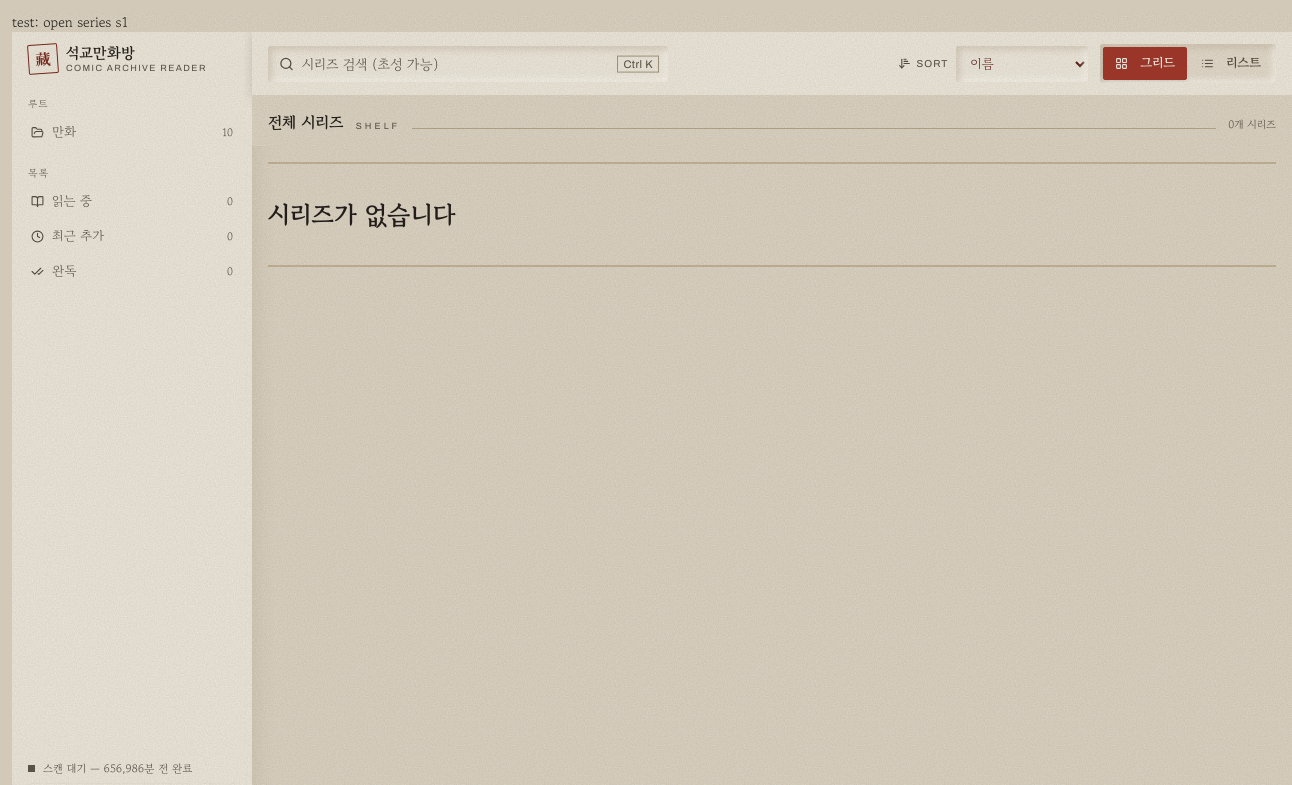
Scenario: library preferences changed off the library screen (A-5 write-back) › writes back a sort changed on a series screen, and keeps it on the way back to the library
Click the link "test: open series s1": {"x": 70, "y": 22} [12, 12, 128, 32]
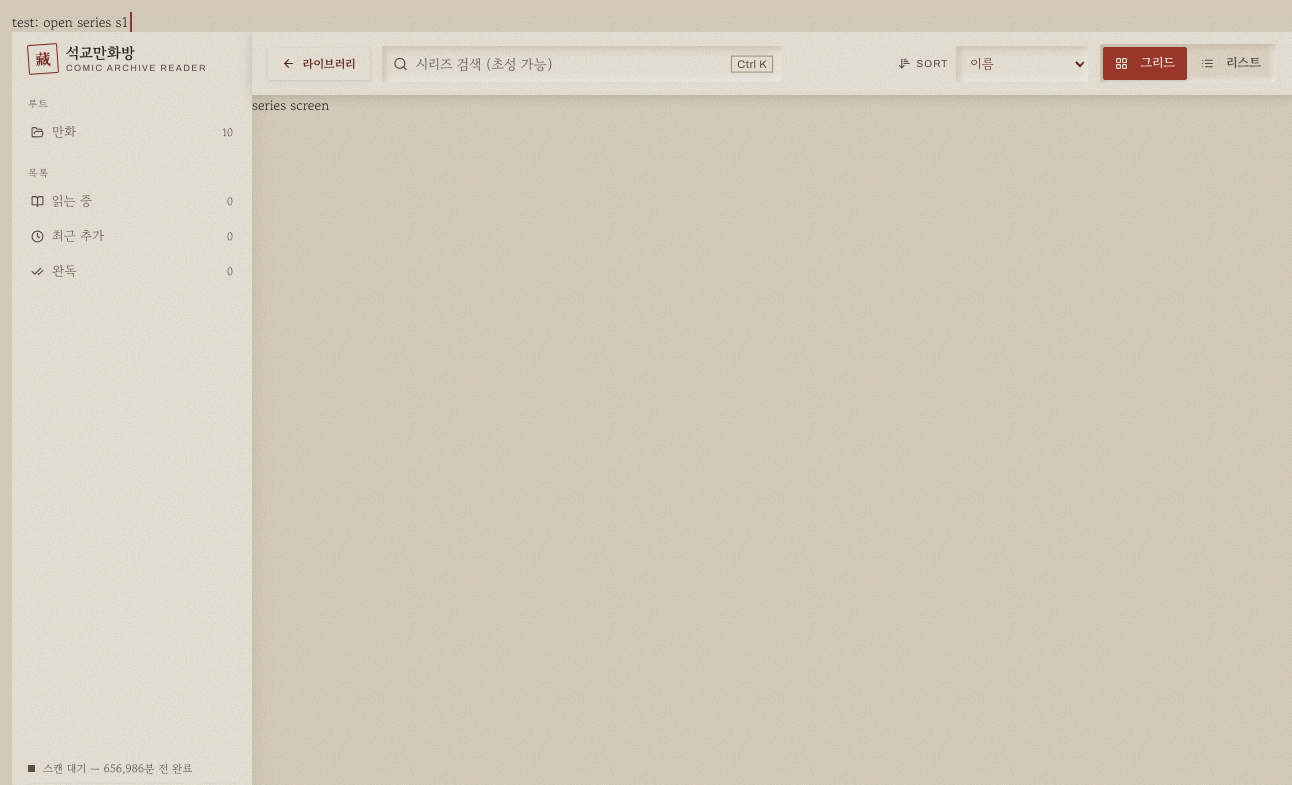
expect the text "series screen" is shown: met, box [252, 95, 329, 115]
Select "수정일" in the dropdown named "정렬": {"x": 1022, "y": 64} [956, 46, 1088, 82]
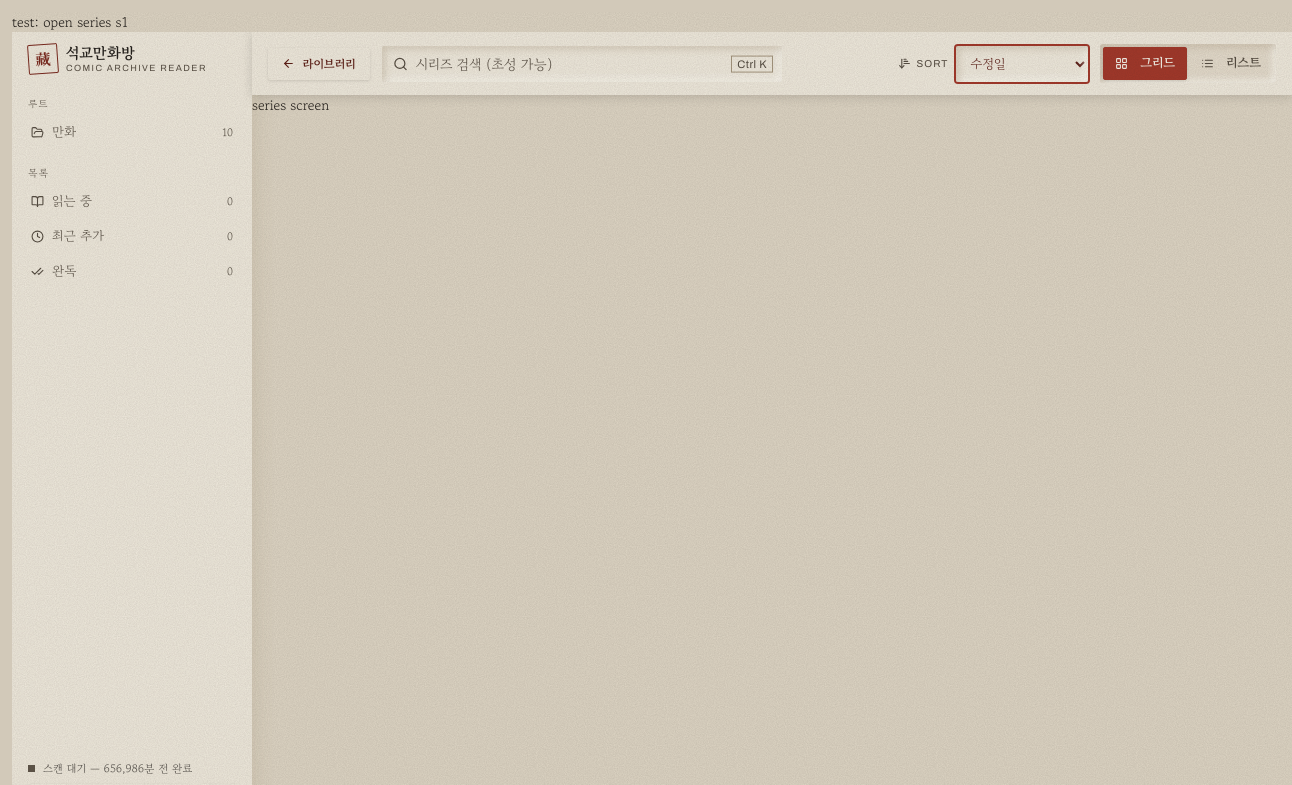
Click the button "라이브러리": {"x": 319, "y": 64} [268, 48, 370, 80]
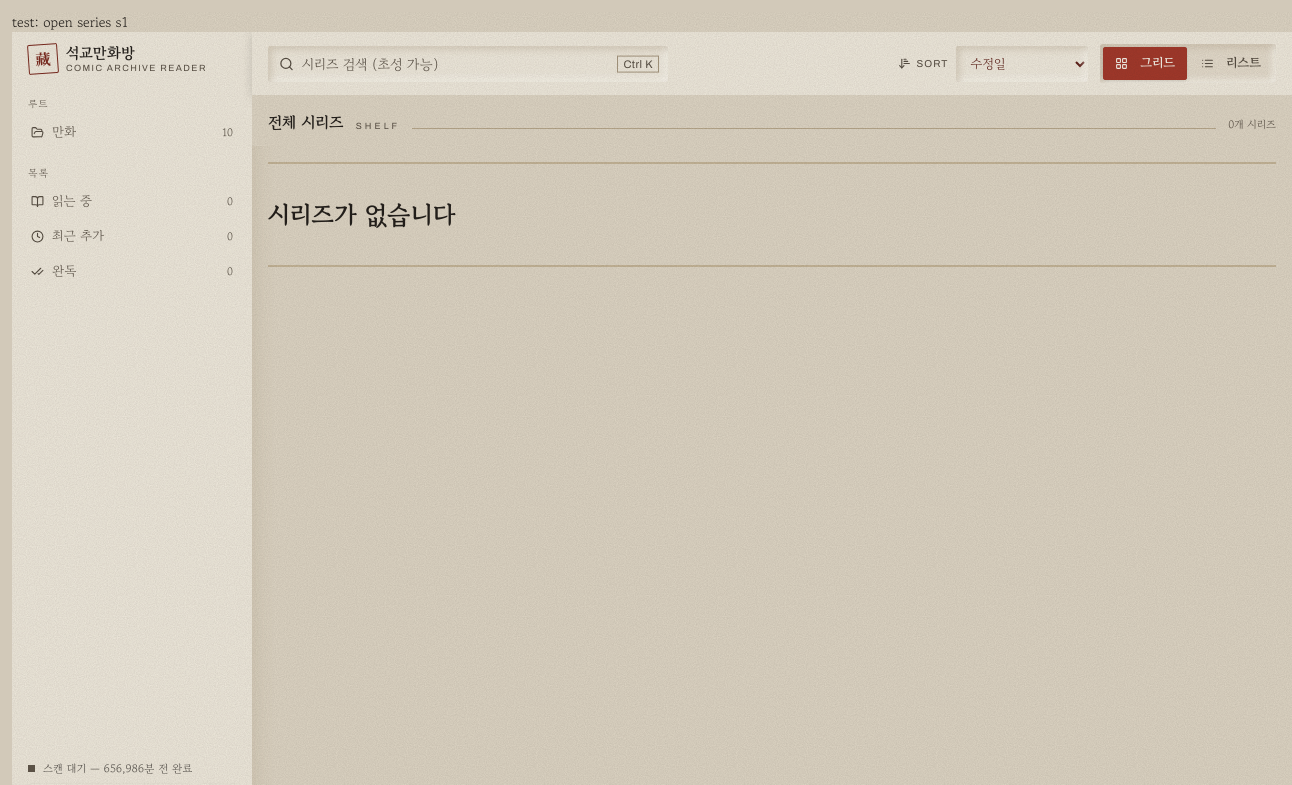
expect the text "series screen" is gone: met
